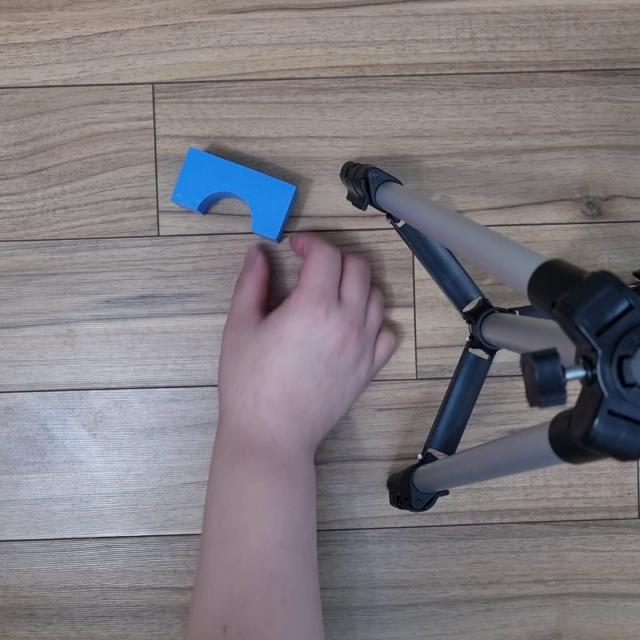block: (158, 132, 304, 244)
hand: (209, 221, 426, 475)
